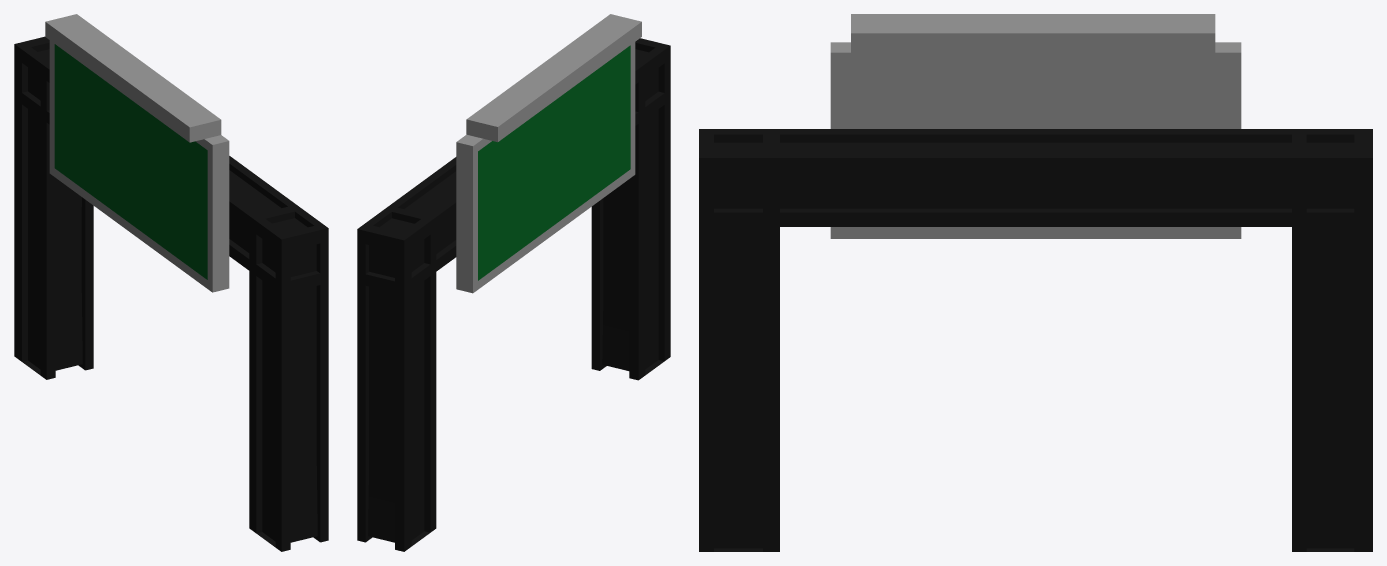
Rendered from MOD_panneauautoroute.FBX.
3 views of the same model, side by side, from view 1: azimuth 30°, elevation 25°; view 2: azimuth 150°, elevation 25°; view 3: azimuth 270°, elevation 25° (orthographic). The views are drawn at different scales.
Parts seen in each view (by area): view 1: Plane007; view 2: Plane007; view 3: Plane007.
Boxes of the visible parts, x1,y1,x2,y2 form: Plane007: [14, 14, 328, 551]; Plane007: [357, 14, 670, 551]; Plane007: [699, 14, 1372, 551].
Bounding box in the file's own units: 27.83 × 132 × 164.
